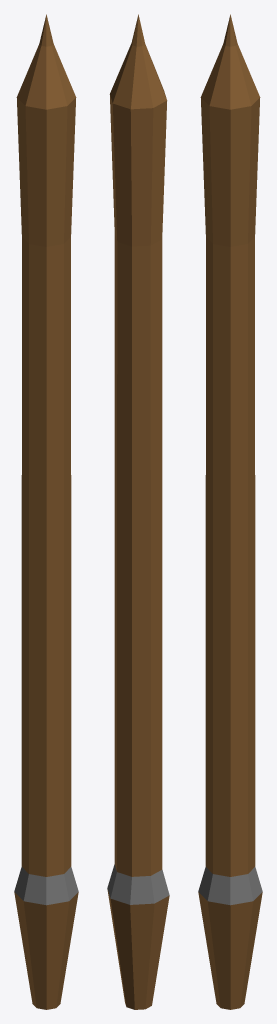
The model's file is Axe Handle.001.glb.
The picture shows the model from 3 angles, left to right: view 1: azimuth 90°, elevation 25°; view 2: azimuth 210°, elevation 25°; view 3: azimuth 270°, elevation 25°; orthographic projection.
Visible parts, largest first — view 1: Axe Handle.001; view 2: Axe Handle.001; view 3: Axe Handle.001.
Boxes of the visible parts, box(x1,y1,x2,y2) form: Axe Handle.001: box(14, 14, 78, 1009); Axe Handle.001: box(107, 14, 169, 1009); Axe Handle.001: box(198, 14, 262, 1009).
Size of the model in its own units: 0.0681 by 1.15 by 0.0681.
